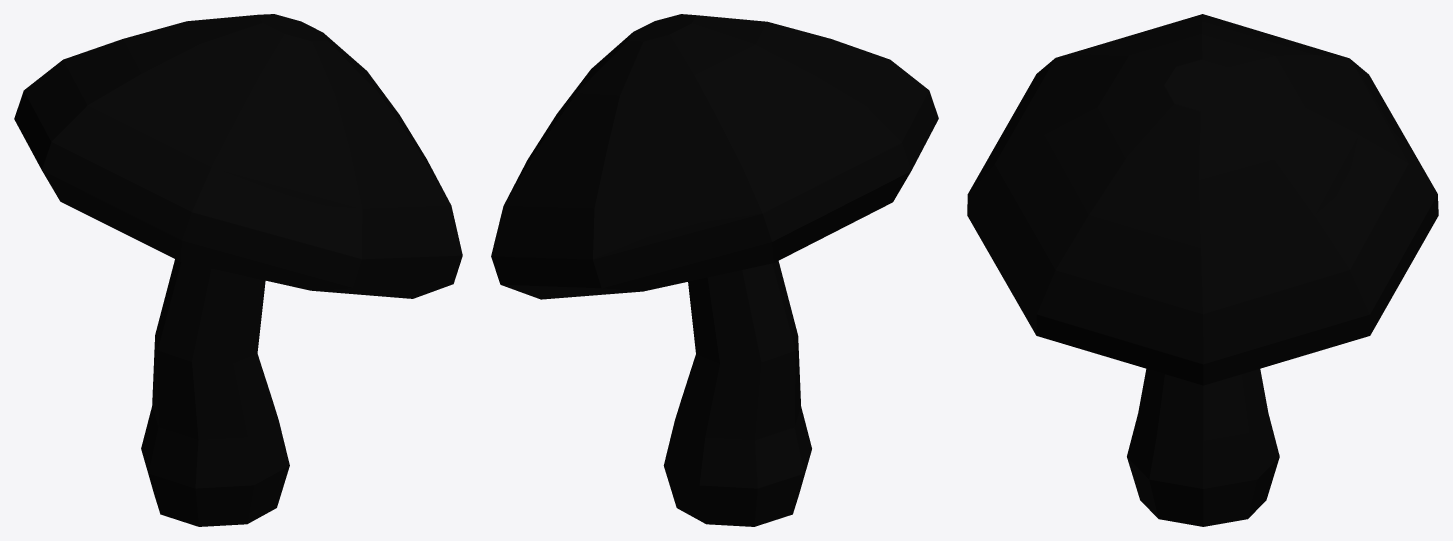
The model's file is Mushroom_3_Smaller.fbx.
3 views of the same model, side by side, from view 1: azimuth 30°, elevation 25°; view 2: azimuth 150°, elevation 25°; view 3: azimuth 270°, elevation 25° (orthographic).
Visible parts, largest first — view 1: Mushroom_3_Smaller; view 2: Mushroom_3_Smaller; view 3: Mushroom_3_Smaller.
Part boxes in pixels (<box>): Mushroom_3_Smaller: <box>14,14,462,526</box>; Mushroom_3_Smaller: <box>491,14,938,526</box>; Mushroom_3_Smaller: <box>967,14,1438,526</box>.
Bounding box in the file's own units: 0.0921 × 0.1044 × 0.0962.
